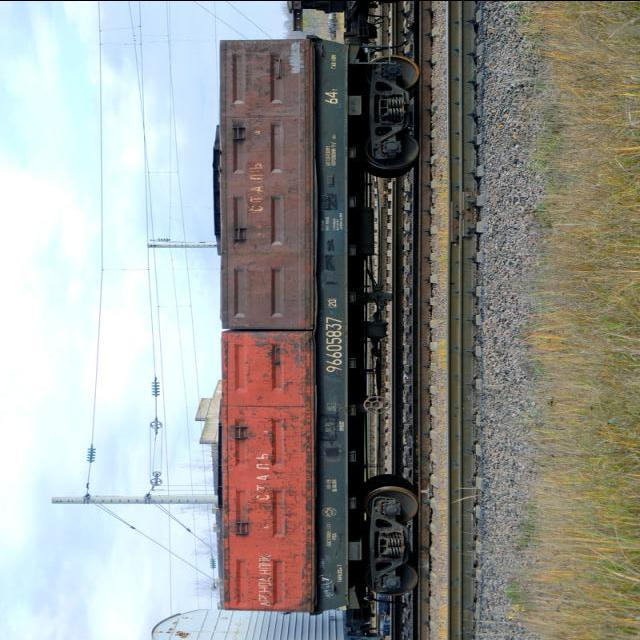wagon: (322, 316, 344, 370)
